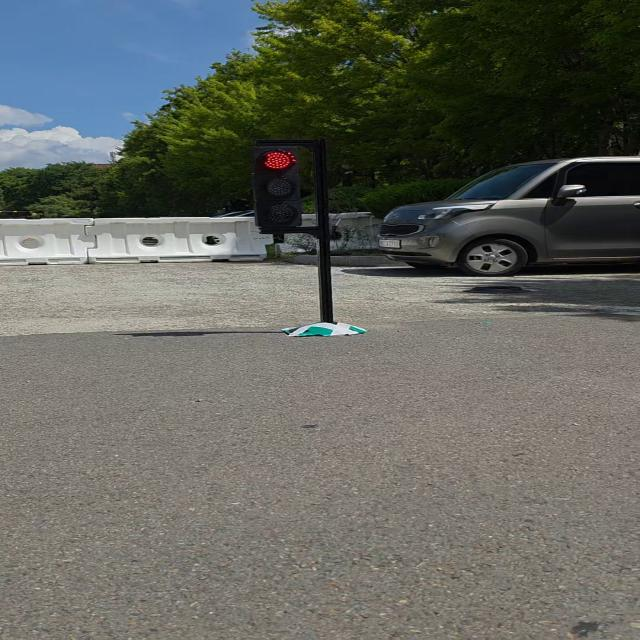red: (251, 146, 305, 234)
